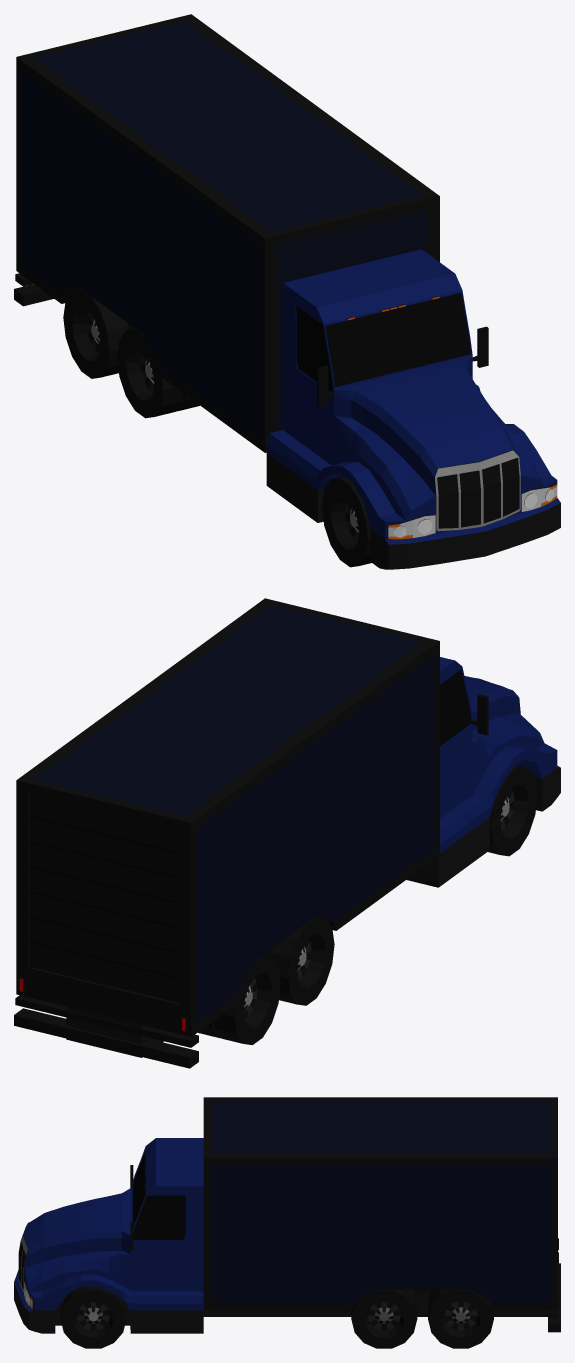
Rendered from SM_truck04.FBX.
3 renders of one model, top to bottom at view 1: azimuth 30°, elevation 25°; view 2: azimuth 150°, elevation 25°; view 3: azimuth 270°, elevation 25°, orthographic. The views are drawn at different scales.
Visible parts, largest first — view 1: Peterbuilt_Box; view 2: Peterbuilt_Box; view 3: Peterbuilt_Box.
Boxes of the visible parts, x1,y1,x2,y2 form: Peterbuilt_Box: (14,14,560,569); Peterbuilt_Box: (14,598,560,1068); Peterbuilt_Box: (14,1097,560,1348).
Size of the model in its own units: 225 by 328 by 849.
